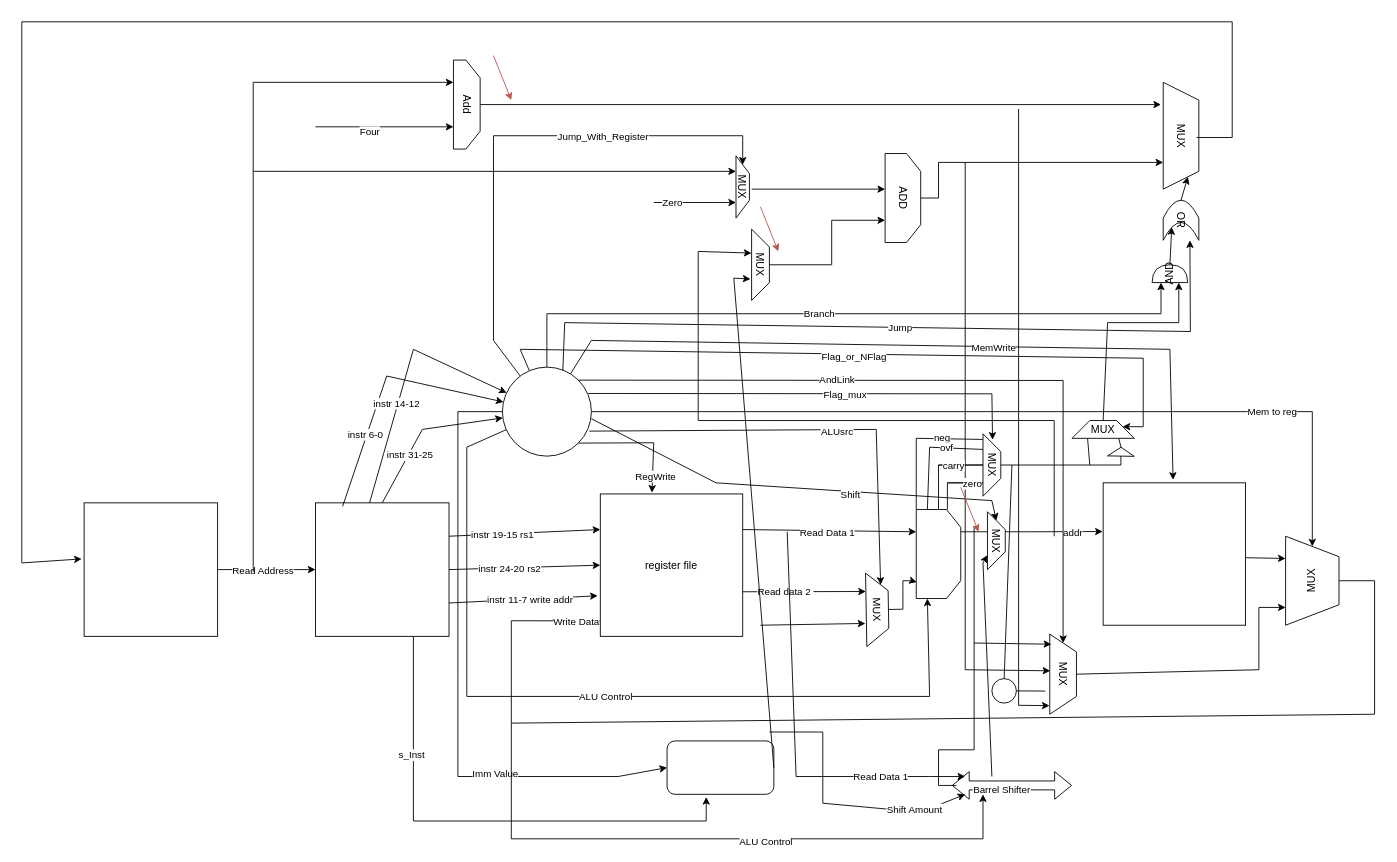
The diagram is 1397 pixels wide and 862 high, and some of its shapes have lost their labels. Here are the shapes that lost their labels. From the top down, the centre of each, then its label:
point 546,411: Control Unit
point 150,569: PC Counter
point 382,569: Instruction memory
point 938,554: ALU
point 1174,553: Memory
point 1003,690: zero ex.
point 720,767: Immediate Generation
